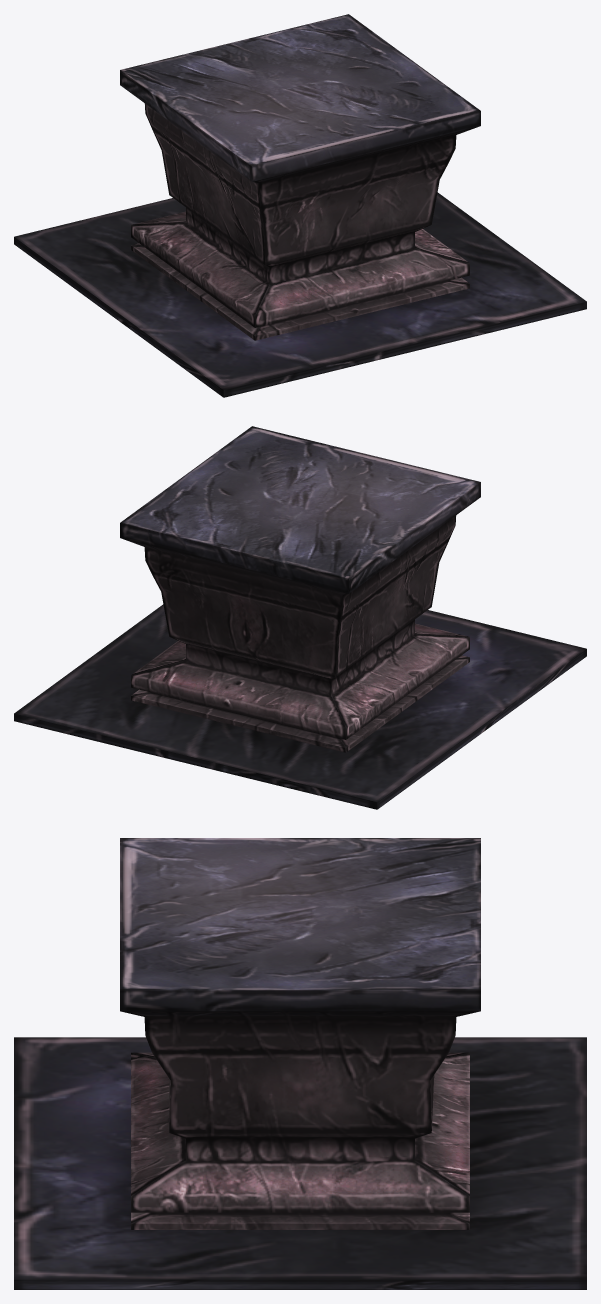
Rendered from TombFinal.fbx.
3 views of the same model, one above another, from view 1: azimuth 30°, elevation 25°; view 2: azimuth 150°, elevation 25°; view 3: azimuth 270°, elevation 25° (orthographic). The views are drawn at different scales.
Parts seen in each view (by area): view 1: Tomb_Set2:pCube2, Tomb_Set2:pCube1; view 2: Tomb_Set2:pCube2, Tomb_Set2:pCube1; view 3: Tomb_Set2:pCube2, Tomb_Set2:pCube1.
Part boxes in pixels (x1,y1,x2,y2): Tomb_Set2:pCube2: (120, 14, 480, 340); Tomb_Set2:pCube1: (14, 192, 586, 397); Tomb_Set2:pCube2: (120, 426, 480, 752); Tomb_Set2:pCube1: (14, 604, 586, 809); Tomb_Set2:pCube2: (120, 838, 480, 1229); Tomb_Set2:pCube1: (14, 1037, 586, 1289).
Bounding box in the file's own units: 5 × 2.45 × 5.
Materials: 1 (1 with a texture image).
